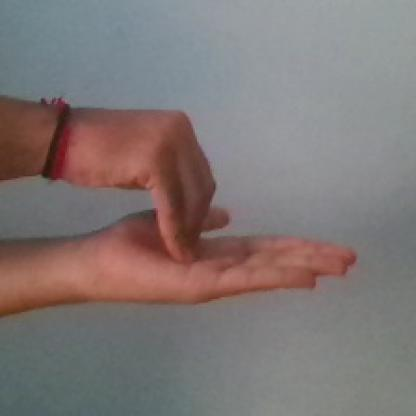Z: (66, 91, 362, 303)
